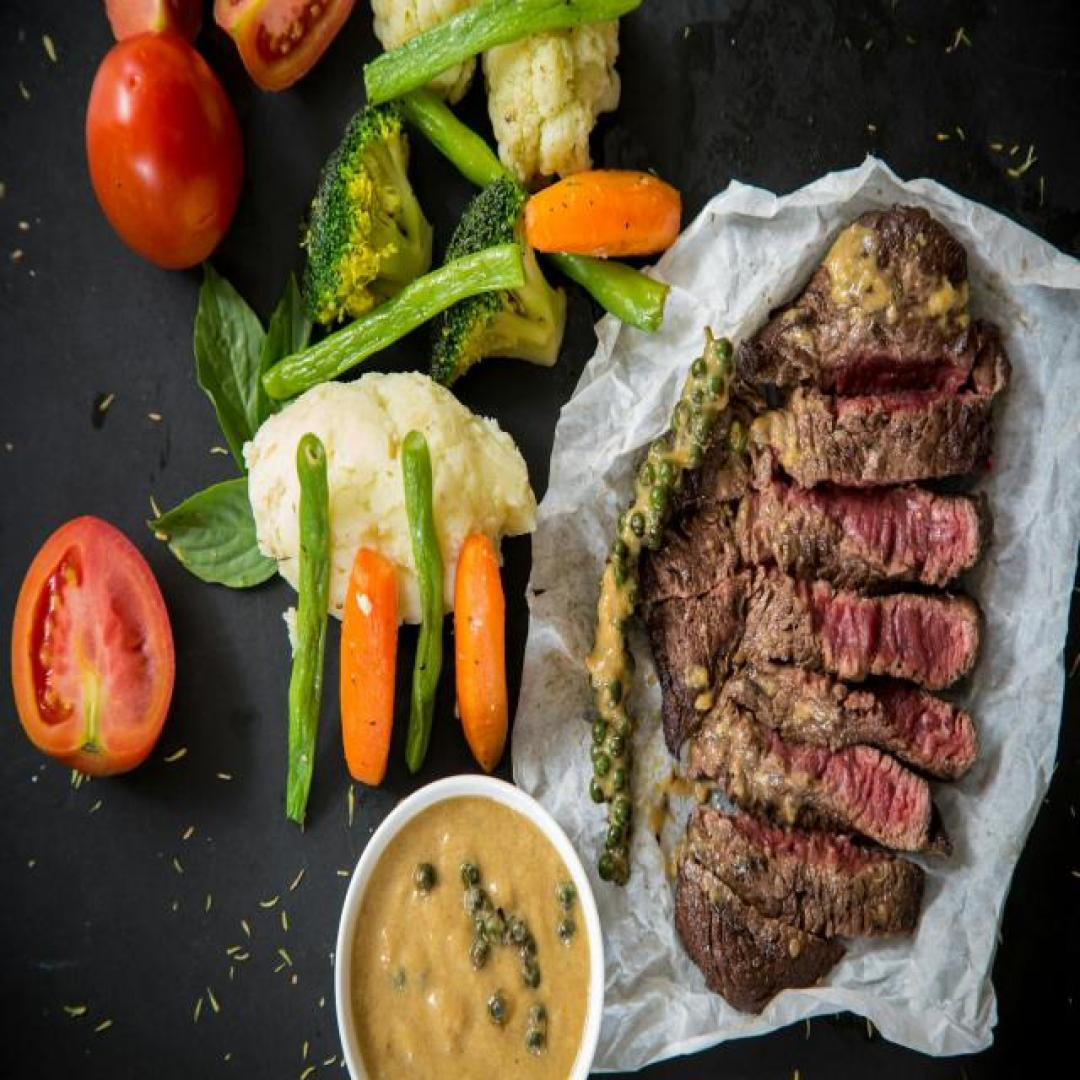matang: (10, 515, 177, 771), (86, 32, 245, 270)
